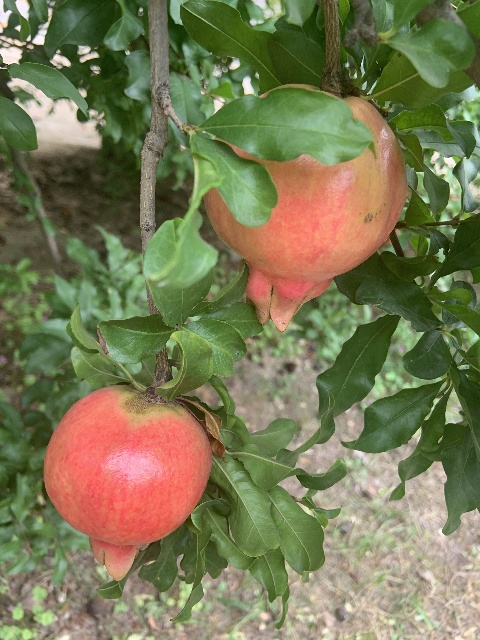ripe: (202, 84, 407, 332), (43, 386, 212, 580)
